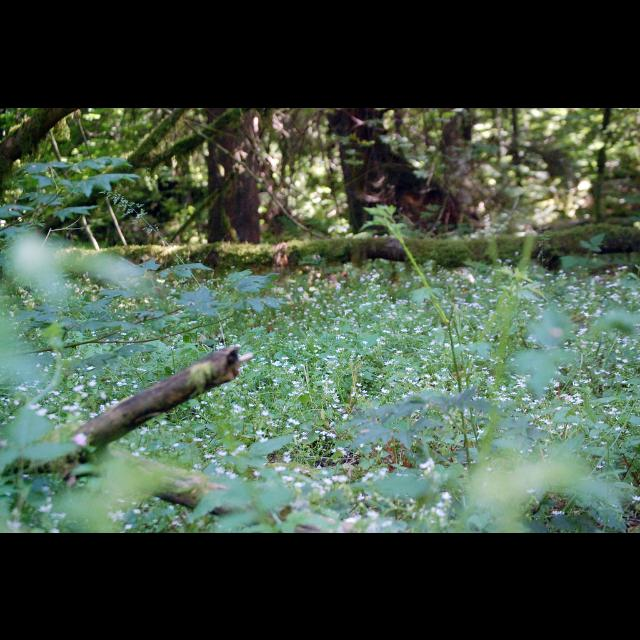Flower: (1, 270, 640, 532)
